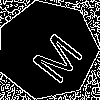M: (22, 25, 85, 86)
